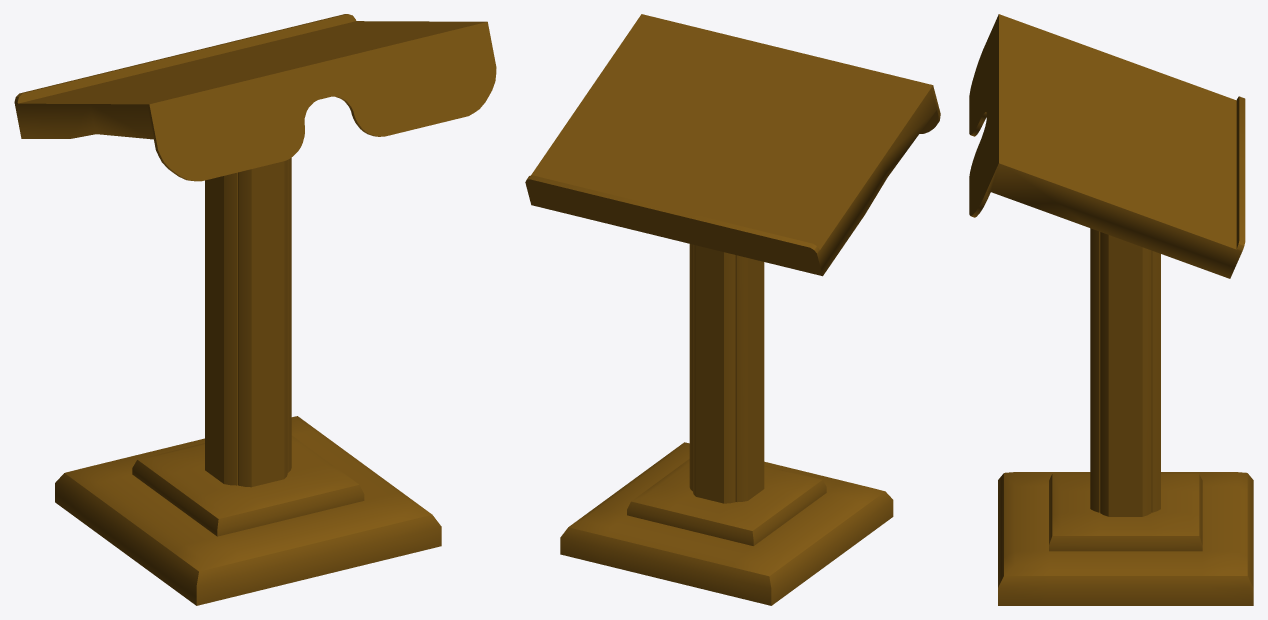
File: lectern.glb
The picture shows the model from 3 angles, left to right: view 1: azimuth 30°, elevation 25°; view 2: azimuth 150°, elevation 25°; view 3: azimuth 270°, elevation 25°; orthographic projection. The views are drawn at different scales.
Visible parts, largest first — view 1: Box001; view 2: Box001; view 3: Box001.
Boxes of the visible parts, x1,y1,x2,y2 form: Box001: [14, 14, 496, 605]; Box001: [525, 14, 940, 605]; Box001: [969, 14, 1253, 605].
Size of the model in its own units: 0.9666 by 1.4 by 0.7782.
